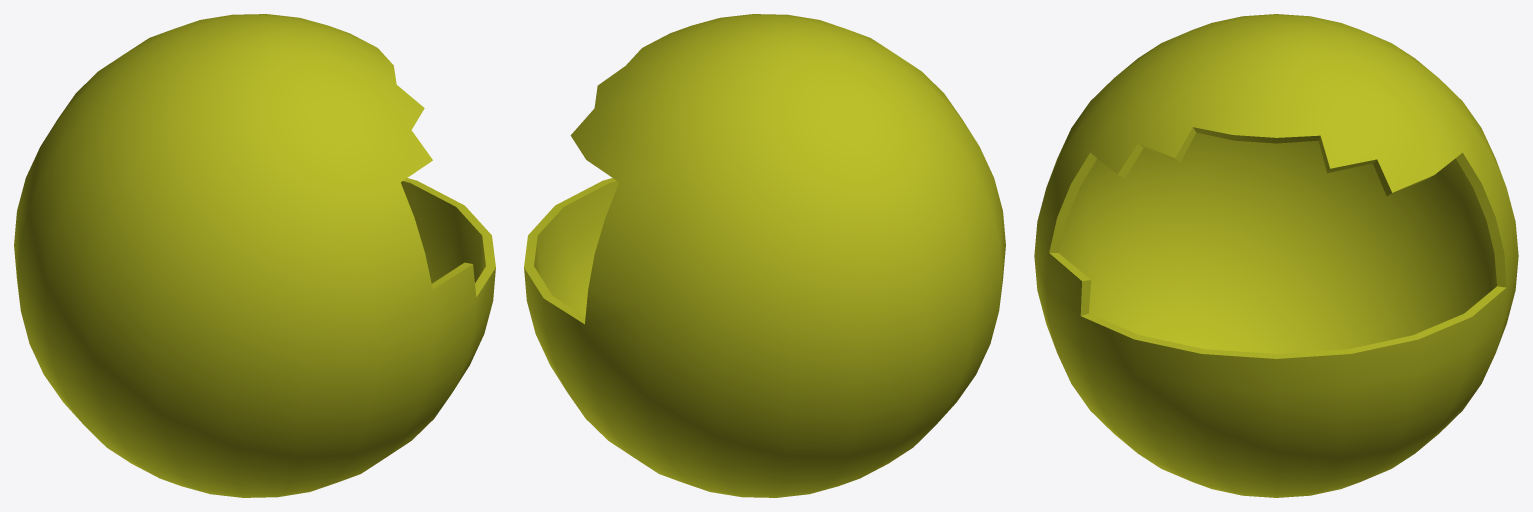
The picture shows the model from 3 angles, left to right: view 1: azimuth 30°, elevation 25°; view 2: azimuth 150°, elevation 25°; view 3: azimuth 270°, elevation 25°; orthographic projection.
Parts seen in each view (by area): view 1: pSphere1; view 2: pSphere1; view 3: pSphere1.
Boxes of the visible parts, x1,y1,x2,y2 form: pSphere1: (14,14,495,497); pSphere1: (524,14,1005,497); pSphere1: (1034,14,1518,497).
Size of the model in its own units: 2.09 by 2.09 by 2.09.
